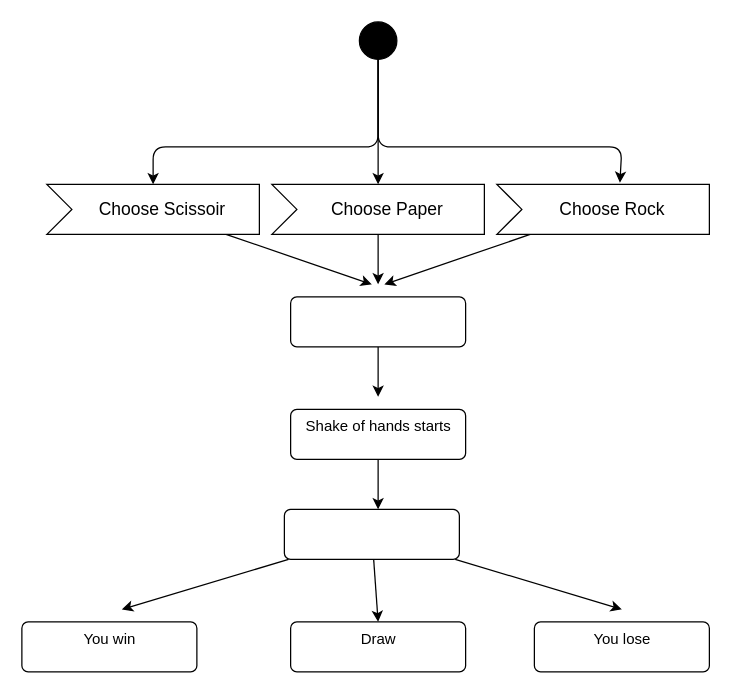
Some shapes in this 731 by 694 pixel diagram are drawn without their labels. The shapes that lost their labels are listed below. From the top down, each one's centre as x and y in pixels, then its label:
(377,321): Buttons deactivate
(371,533): Computer chooses something
